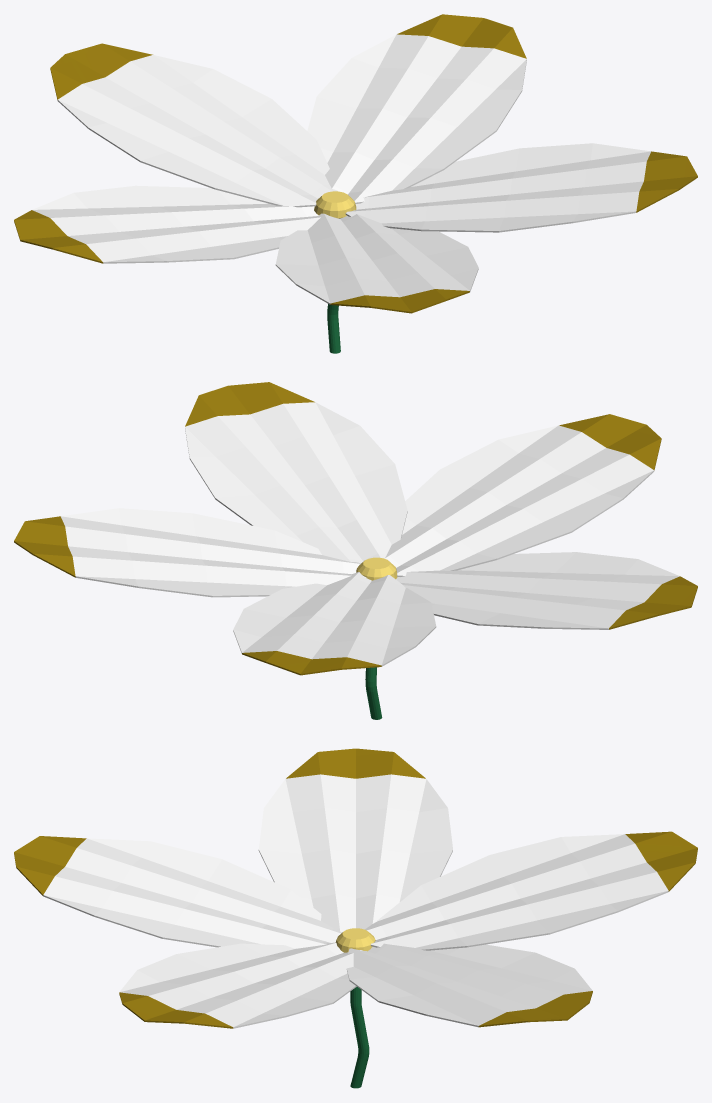
File: Flower_1.fbx
3 views of the same model, one above another, from view 1: azimuth 30°, elevation 25°; view 2: azimuth 150°, elevation 25°; view 3: azimuth 270°, elevation 25° (orthographic).
Parts seen in each view (by area): view 1: Flower_1; view 2: Flower_1; view 3: Flower_1.
Boxes of the visible parts, x1=… form: Flower_1: x1=14, y1=14, x2=697, y2=353; Flower_1: x1=14, y1=382, x2=697, y2=719; Flower_1: x1=14, y1=748, x2=697, y2=1088.
Size of the model in its own units: 605 by 196 by 626.
